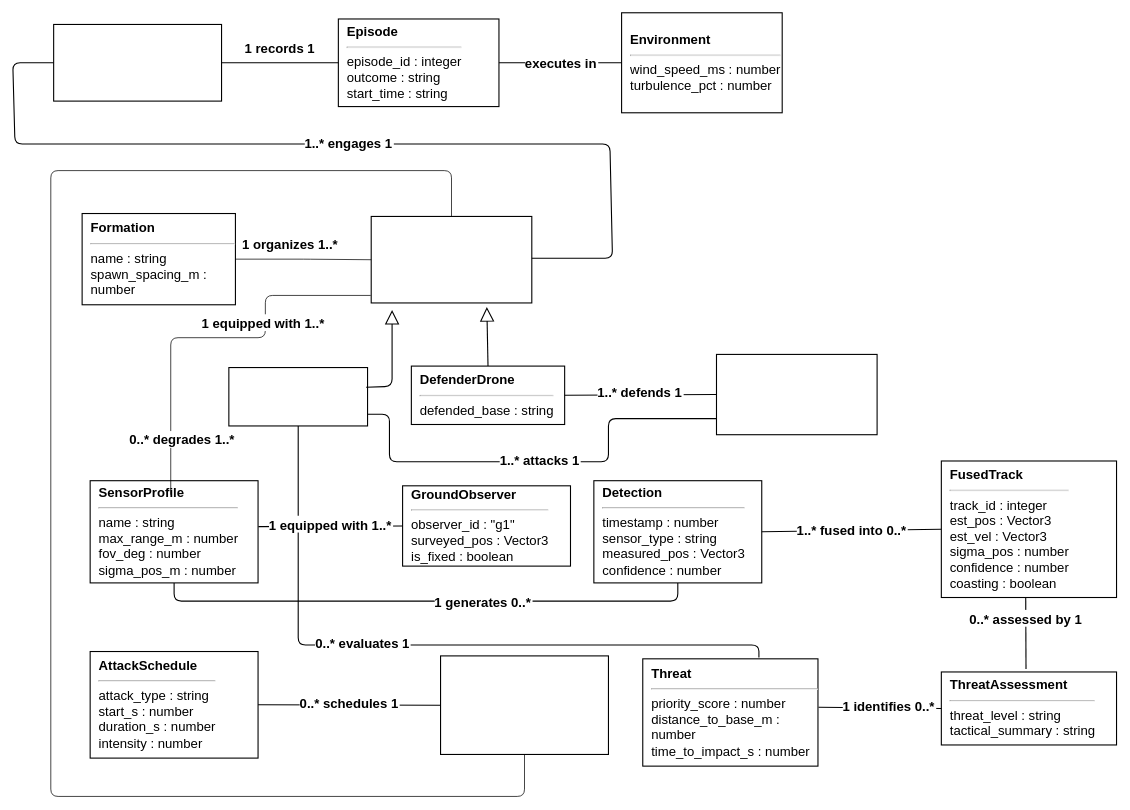
Some shapes in this 1130 by 810 pixel diagram are drawn without their labels. The box of each missing label's shape, as (x1, y1, x2, y2) in pixels:
AttackerDrone target_base : string: (228, 367, 368, 426)
Base name : string position_ned : Vector3 radius_m : number: (716, 354, 877, 435)
CyberAttack attack_type : string is_active : boolean degradation_factor : number: (440, 655, 609, 755)
Drone callsign : string role : string armed : boolean: (370, 216, 532, 303)
Mission mission_id : string status : string max_duration_s : number: (53, 24, 222, 101)
